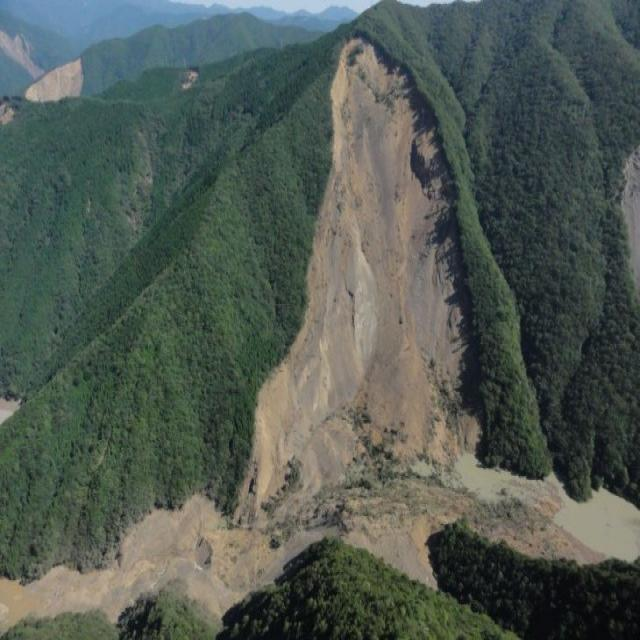Debris-flow: (1, 38, 640, 632), (621, 147, 640, 291), (26, 60, 82, 100), (0, 31, 34, 72), (1, 397, 19, 422)
